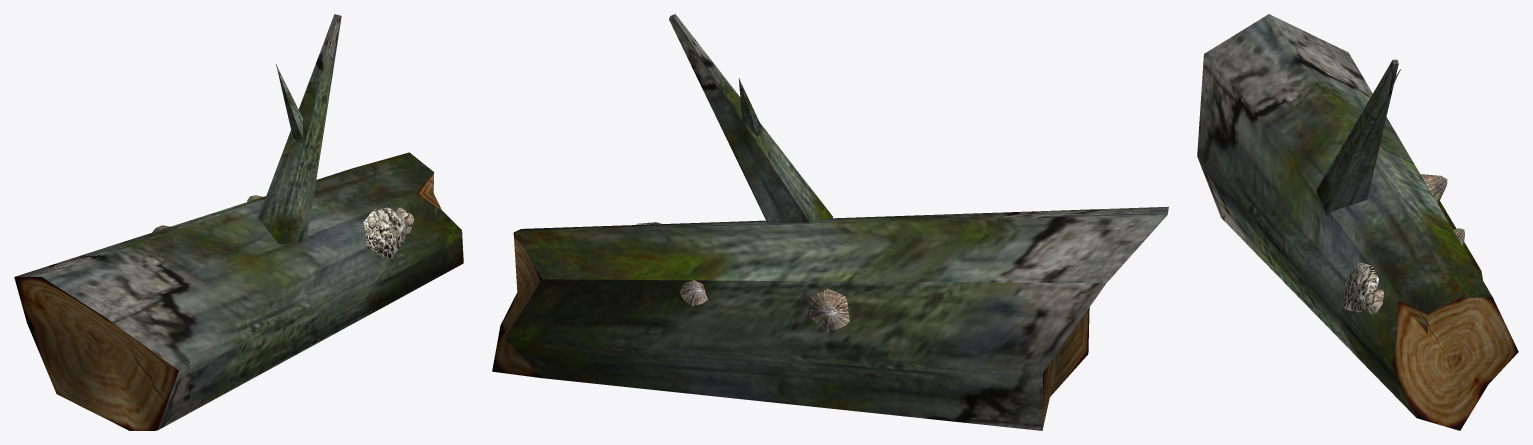
File: pir_m_prp_dvj_logSeaweed_a.fbx
The picture shows the model from 3 angles, left to right: view 1: azimuth 30°, elevation 25°; view 2: azimuth 150°, elevation 25°; view 3: azimuth 270°, elevation 25°; orthographic projection. The views are drawn at different scales.
Visible parts, largest first — view 1: log2, barnacle2; view 2: log2, limpet; view 3: log2, barnacle2, limpet, barnacle1.
Part boxes in pixels (left/top/right/bottom): log2: left=14, top=14, right=463, bottom=430; barnacle2: left=363, top=207, right=407, bottom=259; log2: left=492, top=14, right=1168, bottom=430; limpet: left=807, top=288, right=849, bottom=332; log2: left=1197, top=14, right=1518, bottom=430; barnacle2: left=1344, top=262, right=1378, bottom=312; limpet: left=1420, top=174, right=1447, bottom=203; barnacle1: left=1364, top=288, right=1383, bottom=314.
Size of the model in its own units: 667 by 412 by 374.
2 materials, 2 textured.
